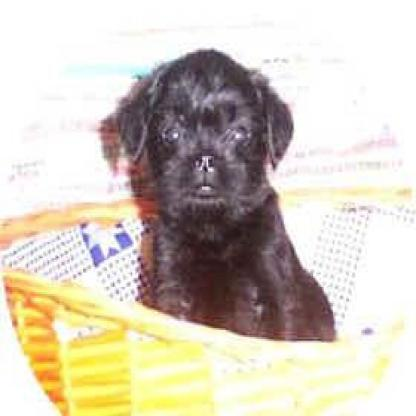affenpinscher: (113, 47, 337, 339)
